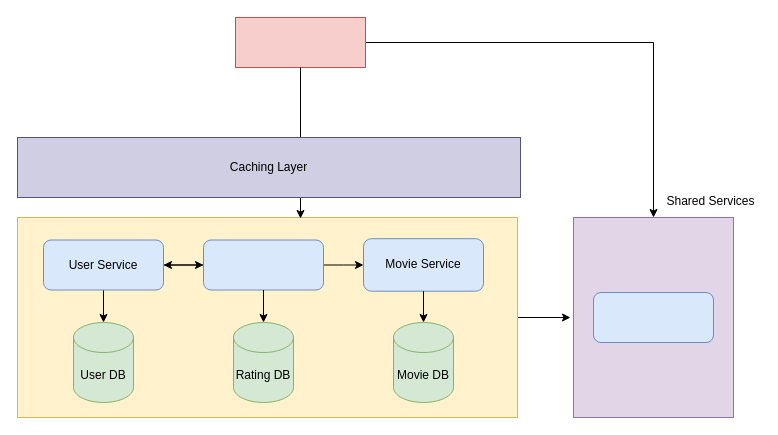
This 778x435 diagram has some shape labels left out. The shapes that lost their labels are listed below. From the top down, each one's centre as x and y in pixels, then its label:
At point (300, 42): "Client".
At point (263, 264): "Rating Service".
At point (653, 317): "Auth Service".
